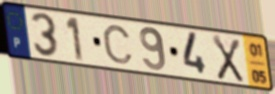1: (64, 15, 86, 63)
3: (29, 11, 61, 59)
4: (182, 30, 211, 80)
9: (138, 26, 168, 73)
C: (101, 23, 135, 66)
X: (210, 33, 246, 85)
